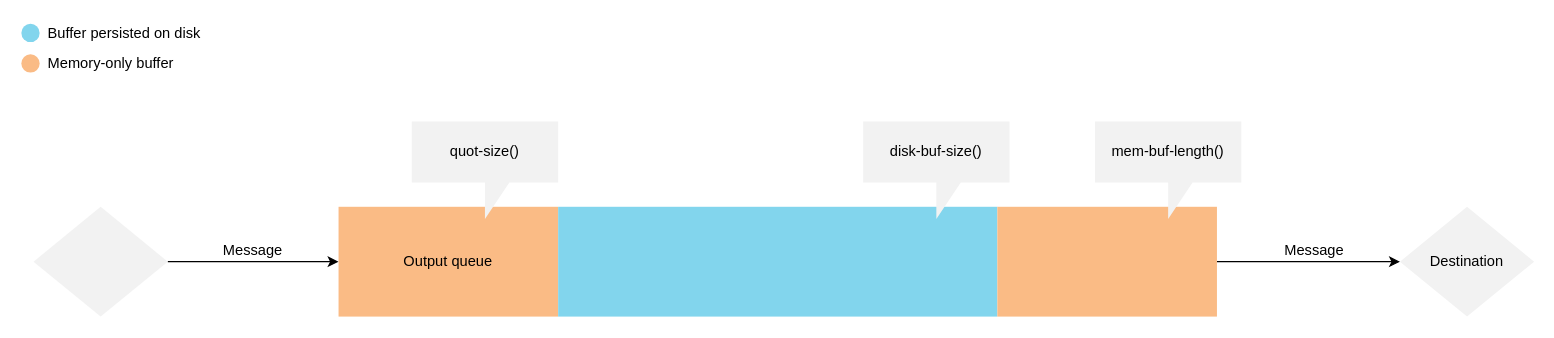
Image size: 1554x338. Some labels were removed from this diagram. The centre of each missing label's shape, as x and y in pixels:
"Disk-buffer file" belongs at point 777,261.
"Overflow queue" belongs at point 1106,261.
"Source" belongs at point 100,261.
